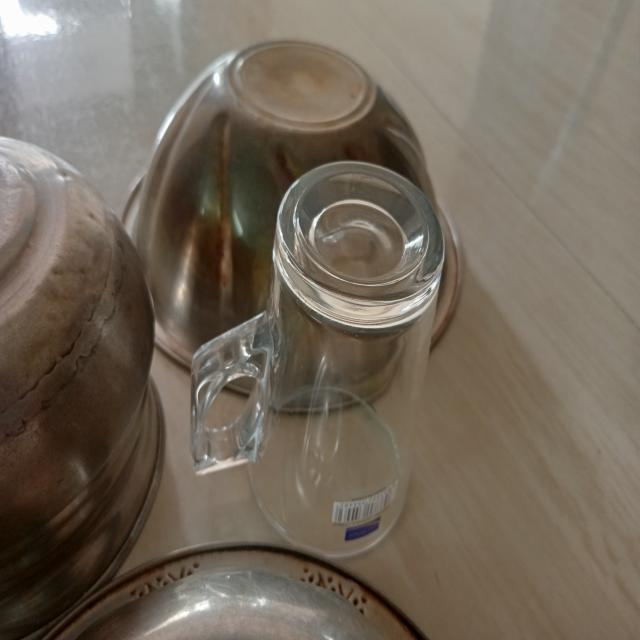glass-VX4N: (189, 159, 450, 561)
